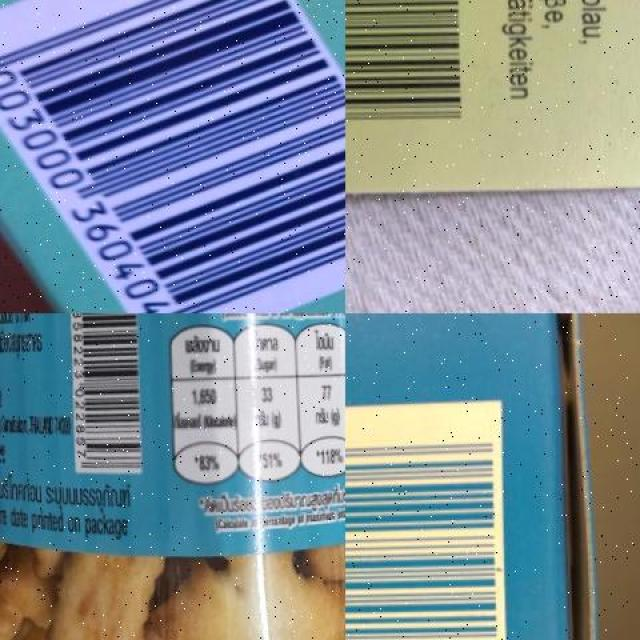Barcode: (0, 0, 345, 313), (345, 402, 506, 640), (345, 0, 472, 136), (63, 314, 138, 478)
